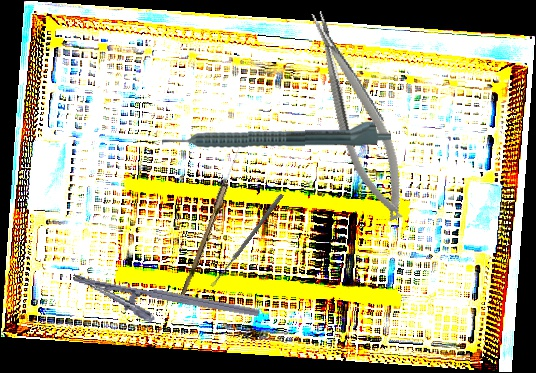Handpiece: (161, 119, 392, 149)
Needle Holder: (299, 2, 418, 228), (67, 272, 260, 343)
Surgical Spoon: (180, 143, 244, 297), (210, 192, 284, 289)
